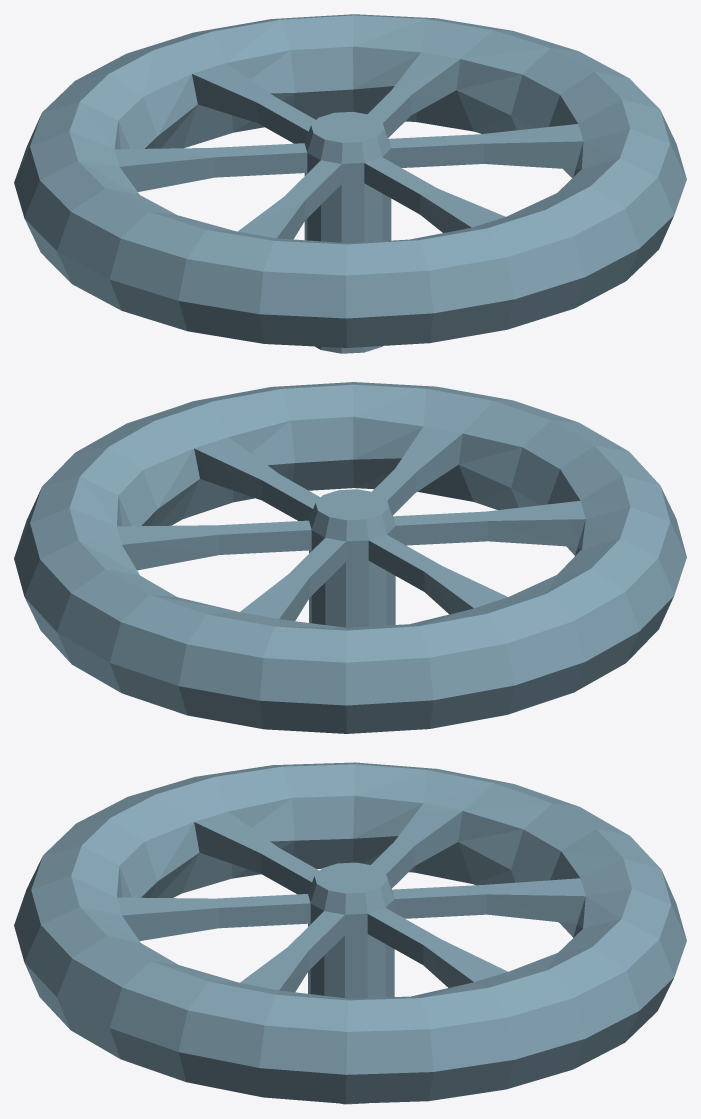
Rendered from geyser_wheel.fbx.
3 renders of one model, top to bottom at view 1: azimuth 30°, elevation 25°; view 2: azimuth 150°, elevation 25°; view 3: azimuth 270°, elevation 25°, orthographic.
Visible parts, largest first — view 1: pasted__pTorus3; view 2: pasted__pTorus3; view 3: pasted__pTorus3.
Part boxes in pixels (<box>): pasted__pTorus3: <box>14,14,686,353</box>; pasted__pTorus3: <box>14,382,686,733</box>; pasted__pTorus3: <box>14,762,686,1104</box>.
Bounding box in the file's own units: 2.4 × 0.8254 × 2.4.
